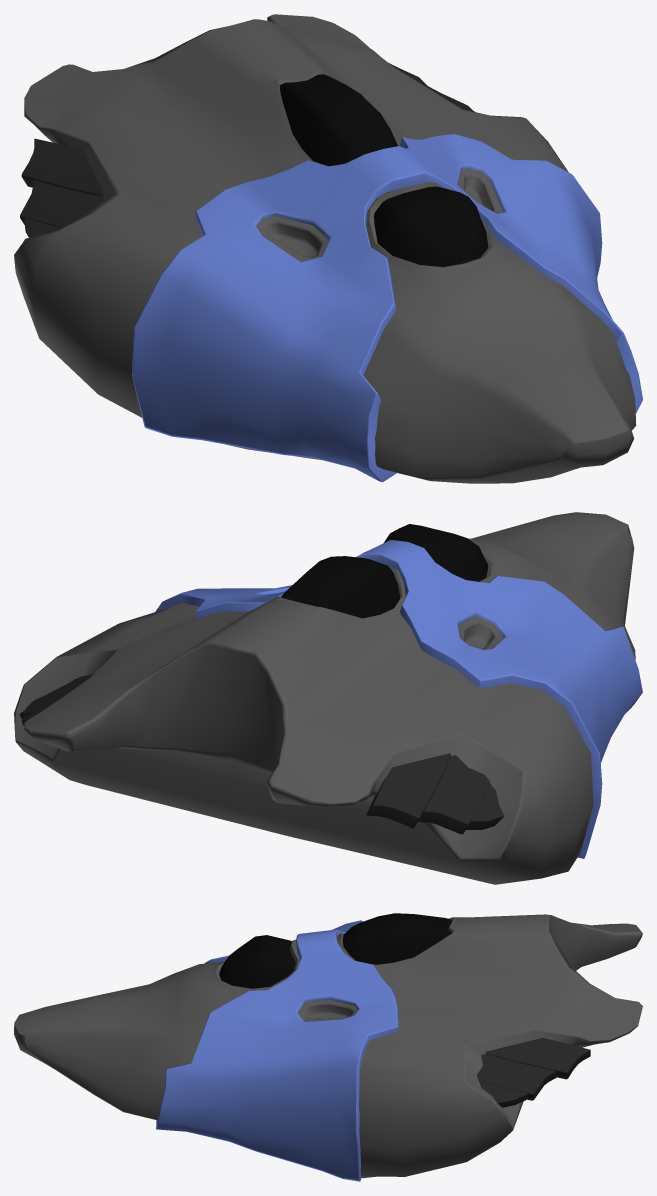
Rendered from playerShip1.fbx.
3 renders of one model, top to bottom at view 1: azimuth 30°, elevation 25°; view 2: azimuth 150°, elevation 25°; view 3: azimuth 270°, elevation 25°, orthographic. The views are drawn at different scales.
Visible parts, largest first — view 1: Ship_Boos_01_Hull; view 2: Ship_Boos_01_Hull; view 3: Ship_Boos_01_Hull.
Boxes of the visible parts, left/top/right/bottom form: Ship_Boos_01_Hull: left=14, top=14, right=642, bottom=483; Ship_Boos_01_Hull: left=14, top=512, right=642, bottom=884; Ship_Boos_01_Hull: left=14, top=913, right=642, bottom=1181.
Bounding box in the file's own units: 872 × 455 × 1283.
Materials: 1 (1 with a texture image).
